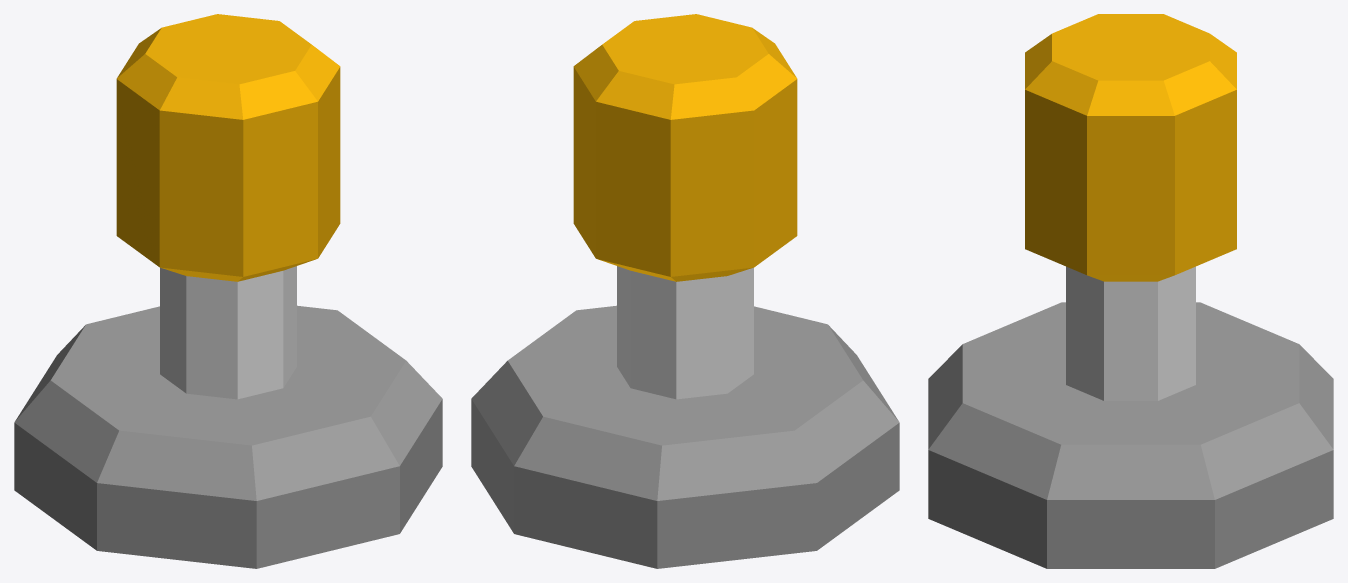
Rendered from epe_drone_propeller.dae.
3 views of the same model, side by side, from view 1: azimuth 30°, elevation 25°; view 2: azimuth 150°, elevation 25°; view 3: azimuth 270°, elevation 25° (orthographic).
Visible parts, largest first — view 1: drone_propeller; view 2: drone_propeller; view 3: drone_propeller.
Part boxes in pixels (<box>): drone_propeller: <box>14,14,442,568</box>; drone_propeller: <box>471,14,899,568</box>; drone_propeller: <box>928,14,1333,568</box>.
Bounding box in the file's own units: 0.1401 × 0.1401 × 0.1662.
